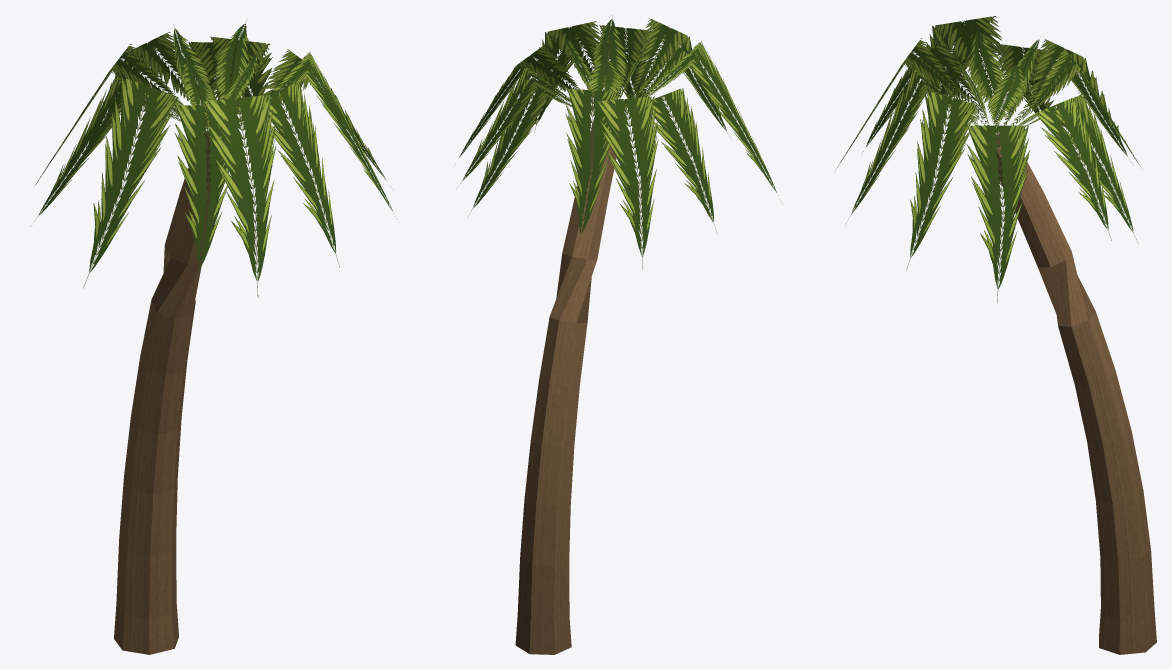
File: palm_a.glb
The picture shows the model from 3 angles, left to right: view 1: azimuth 30°, elevation 25°; view 2: azimuth 150°, elevation 25°; view 3: azimuth 270°, elevation 25°; orthographic projection. The views are drawn at different scales.
Parts seen in each view (by area): view 1: palm_a; view 2: palm_a; view 3: palm_a.
Boxes of the visible parts, x1=… form: palm_a: x1=34, y1=19, x2=397, y2=654; palm_a: x1=459, y1=15, x2=782, y2=654; palm_a: x1=836, y1=16, x2=1156, y2=654.
Bounding box in the file's own units: 3.2 × 5.61 × 2.9.
Materials: 2 (2 with a texture image).
